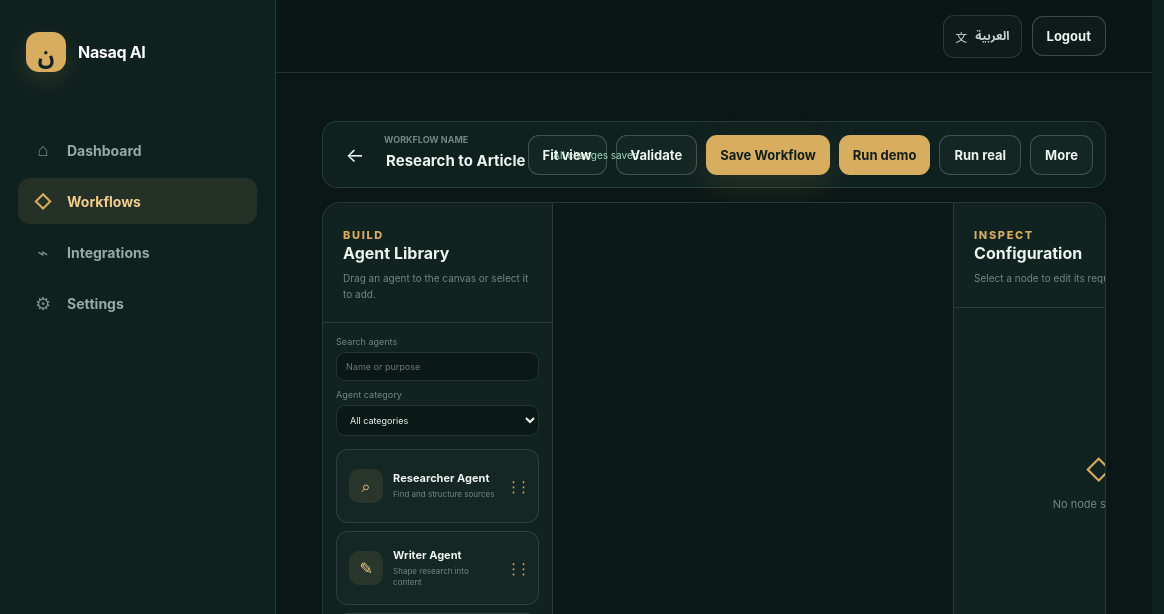
Test case: Nasaq application shell and persisted workflow editor › starts real provider mode explicitly and labels the execution
This screenshot has width=1164, height=614.
Click the button "Run real": (980, 154) [939,134,1021,174]
(page scrolled)
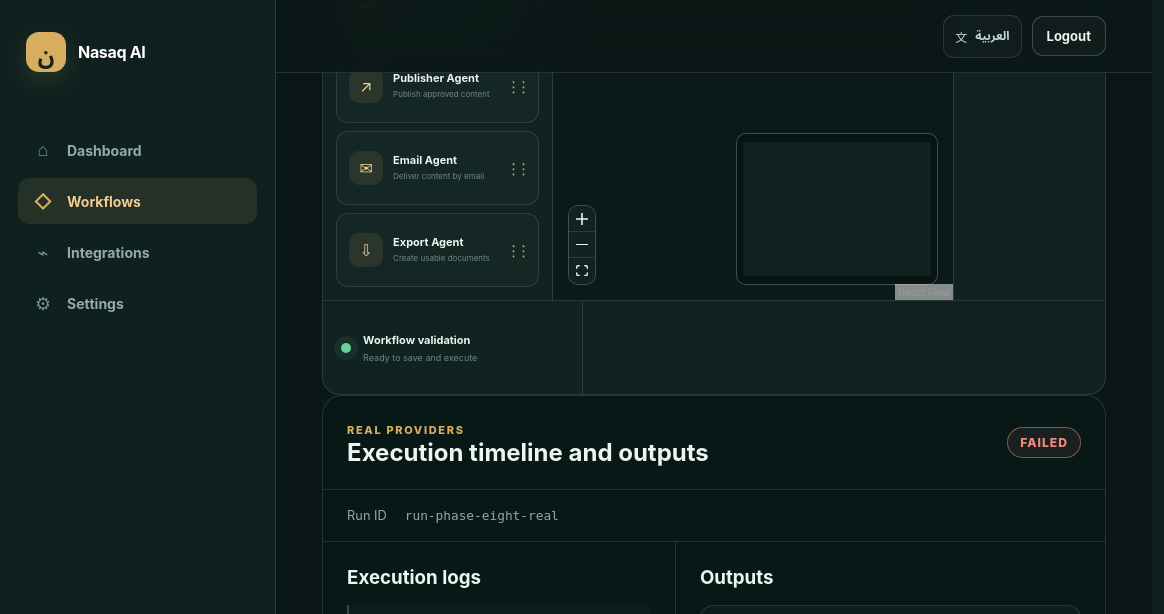
Expected: the text "REAL PROVIDERS" is shown, [347,423,465,437]
